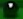black: (0, 0, 23, 19)
